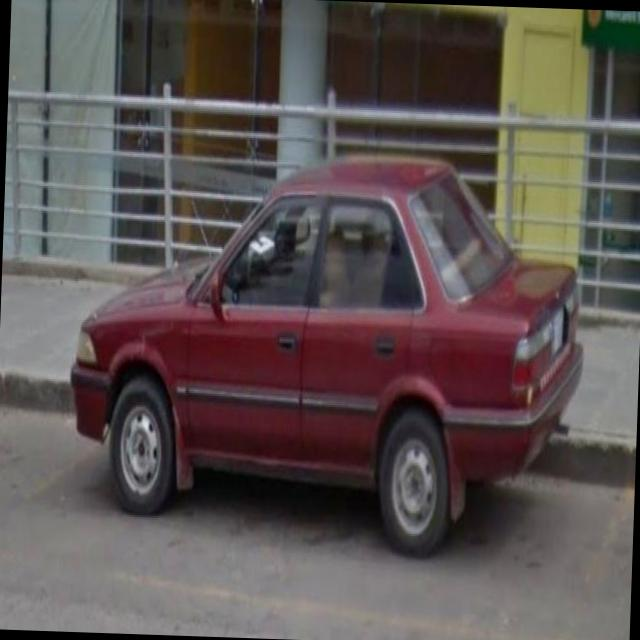car: (67, 156, 588, 562)
